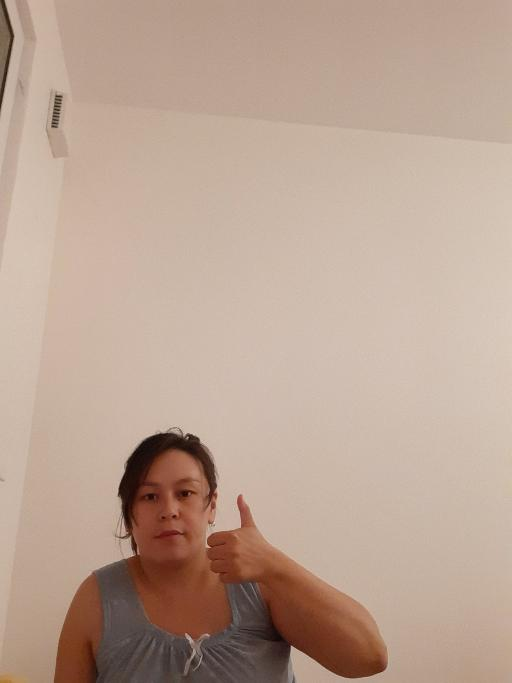like: (204, 492, 267, 584)
